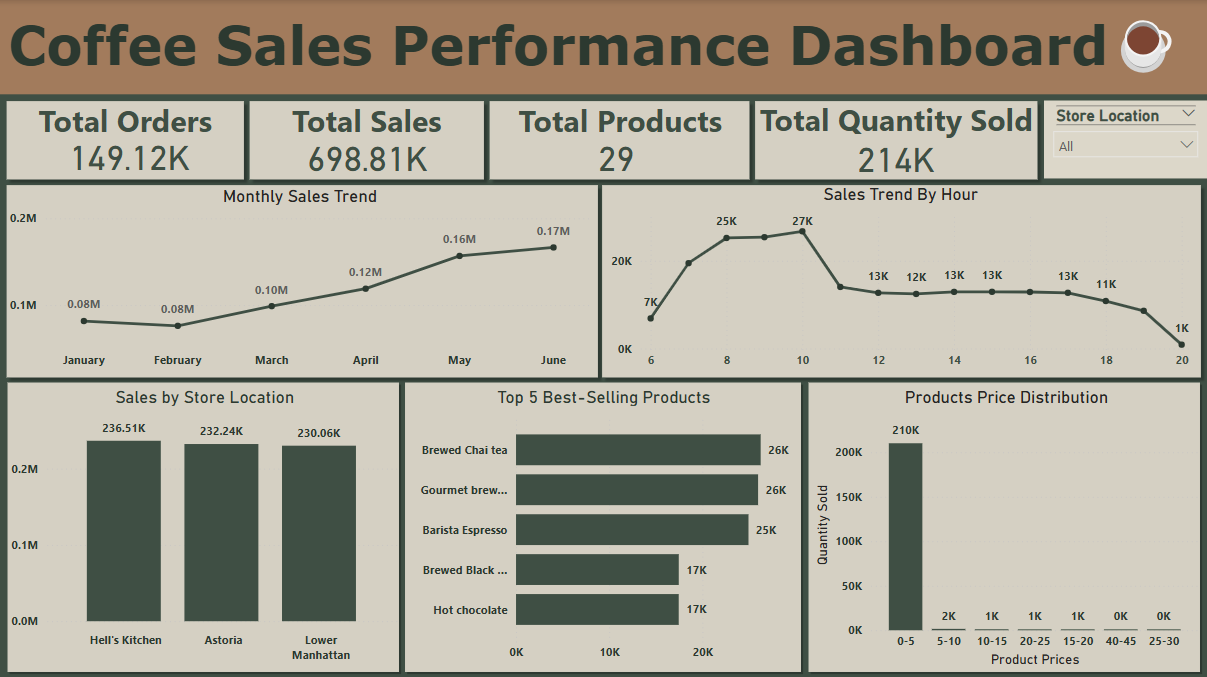

Layout of this report page (visuals, bound fields, positions):
{"tool":"powerbi","page":{"name":"Page 1","canvas":[1280,720],"ordinal":0},"visuals":[{"type":"textbox","box":[0,0,1280.4,100.2],"z":0},{"type":"shape","box":[0,189.3,641,217.9],"z":1000},{"type":"shape","box":[631,189.3,649,217.9],"z":2000},{"type":"shape","box":[0,100.2,265.6,97],"z":3000},{"type":"shape","box":[257.7,100.2,262.5,97],"z":4000},{"type":"shape","box":[512.2,100.2,289.5,97],"z":5000},{"type":"shape","box":[793.7,100.2,313.4,97],"z":6000},{"type":"slicer","fields":{"Values":["coffeesales.store_location"]},"box":[1106.6,106.6,173.4,82.7],"z":7000},{"type":"card","fields":{"Values":["CountNonNull(coffeesales.product_id)"]},"box":[33.4,130.4,206.8,66.8],"z":8000},{"type":"textbox","box":[0,100.2,265.6,70],"z":9000},{"type":"textbox","box":[265.6,100.2,246.5,70],"z":10000},{"type":"textbox","box":[531.3,100.2,252.9,58.9],"z":11000},{"type":"card","fields":{"Values":["Sum(coffeesales.Revenue)"]},"box":[281.5,133.6,214.7,62],"z":12000},{"type":"card","fields":{"Values":["Count(coffeesales.product_type)"]},"box":[559.9,120.9,186.1,89.1],"z":13000},{"type":"textbox","box":[793.7,98.6,313.4,60.4],"z":14000},{"type":"card","fields":{"Values":["Sum(coffeesales.transaction_qty)"]},"box":[890.7,136.8,117.7,58.9],"z":15000},{"type":"shape","box":[4.8,402.4,421.5,313.4],"z":16000},{"type":"shape","box":[426.3,402.4,426.3,313.4],"z":17000},{"type":"shape","box":[854.2,402.4,421.5,313.4],"z":18000},{"type":"lineChart","title":"Monthly Sales Trend","fields":{"Y":["Sum(coffeesales.Revenue)"],"Category":["coffeesales.transaction_date.Variation.Date Hierarchy.Month"]},"box":[4.8,197.2,626.7,202],"z":19000},{"type":"clusteredColumnChart","title":"Sales by Store Location","fields":{"Y":["Sum(coffeesales.Revenue)"],"Category":["coffeesales.store_location"]},"box":[6.4,410.4,421.5,299],"z":20000},{"type":"clusteredBarChart","title":"Top 5 Best-Selling Products","fields":{"Category":["coffeesales.product_type"],"Y":["Sum(coffeesales.transaction_qty)"]},"box":[427.9,410.4,424.7,299],"z":21000},{"type":"clusteredColumnChart","title":"Products Price Distribution","fields":{"Y":["Sum(coffeesales.transaction_qty)"],"Category":["coffeesales.Price Bin"]},"box":[858.9,410.4,416.7,300.6],"z":21001},{"type":"lineChart","title":"Sales Trend By Hour","fields":{"Y":["Sum(coffeesales.transaction_qty)"],"Category":["coffeesales.Sales_Hour"]},"box":[642.6,195.6,625.1,203.6],"z":21002}]}

Visuals, with their boxes in screenshot pixels (x1, y1, x2, y2), scaled from the page's 1280x720 canvas onto the 1207x677 screenshot:
textbox: (0, 0, 1206, 94)
shape: (0, 178, 604, 383)
shape: (595, 178, 1206, 383)
shape: (0, 94, 250, 185)
shape: (243, 94, 491, 185)
shape: (483, 94, 756, 185)
shape: (748, 94, 1044, 185)
slicer - coffeesales.store_location: (1043, 100, 1206, 178)
card - CountNonNull(coffeesales.product_id): (31, 123, 227, 185)
textbox: (0, 94, 250, 160)
textbox: (250, 94, 483, 160)
textbox: (501, 94, 739, 150)
card - Sum(coffeesales.Revenue): (265, 126, 468, 184)
card - Count(coffeesales.product_type): (528, 114, 703, 197)
textbox: (748, 93, 1044, 150)
card - Sum(coffeesales.transaction_qty): (840, 129, 951, 184)
shape: (5, 378, 402, 673)
shape: (402, 378, 804, 673)
shape: (805, 378, 1203, 673)
"Monthly Sales Trend" lineChart: (5, 185, 595, 375)
"Sales by Store Location" clusteredColumnChart: (6, 386, 403, 667)
"Top 5 Best-Selling Products" clusteredBarChart: (403, 386, 804, 667)
"Products Price Distribution" clusteredColumnChart: (810, 386, 1203, 669)
"Sales Trend By Hour" lineChart: (606, 184, 1195, 375)
